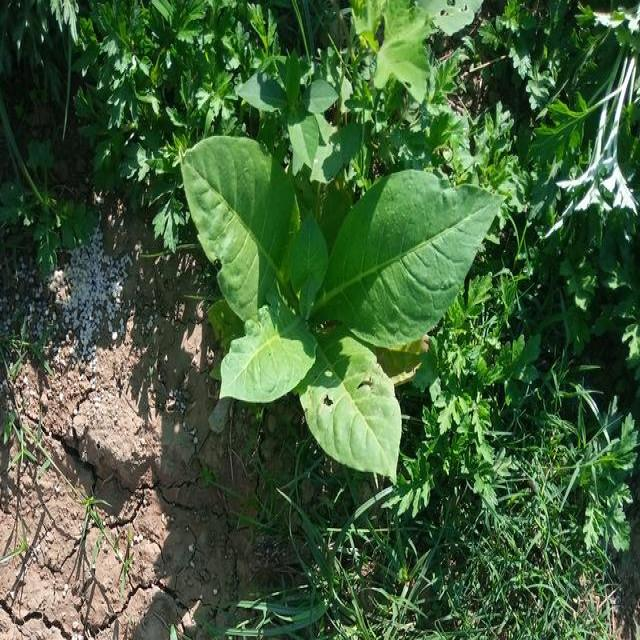crop: (178, 119, 502, 482)
